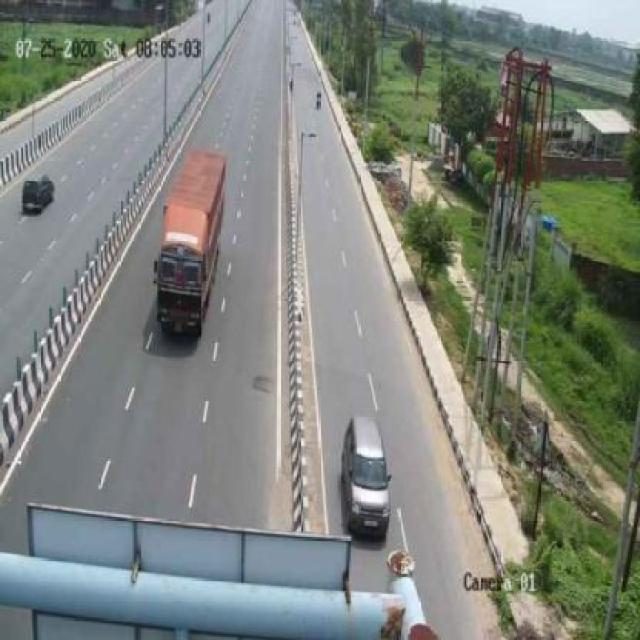car: (332, 409, 400, 543), (18, 169, 62, 222)
